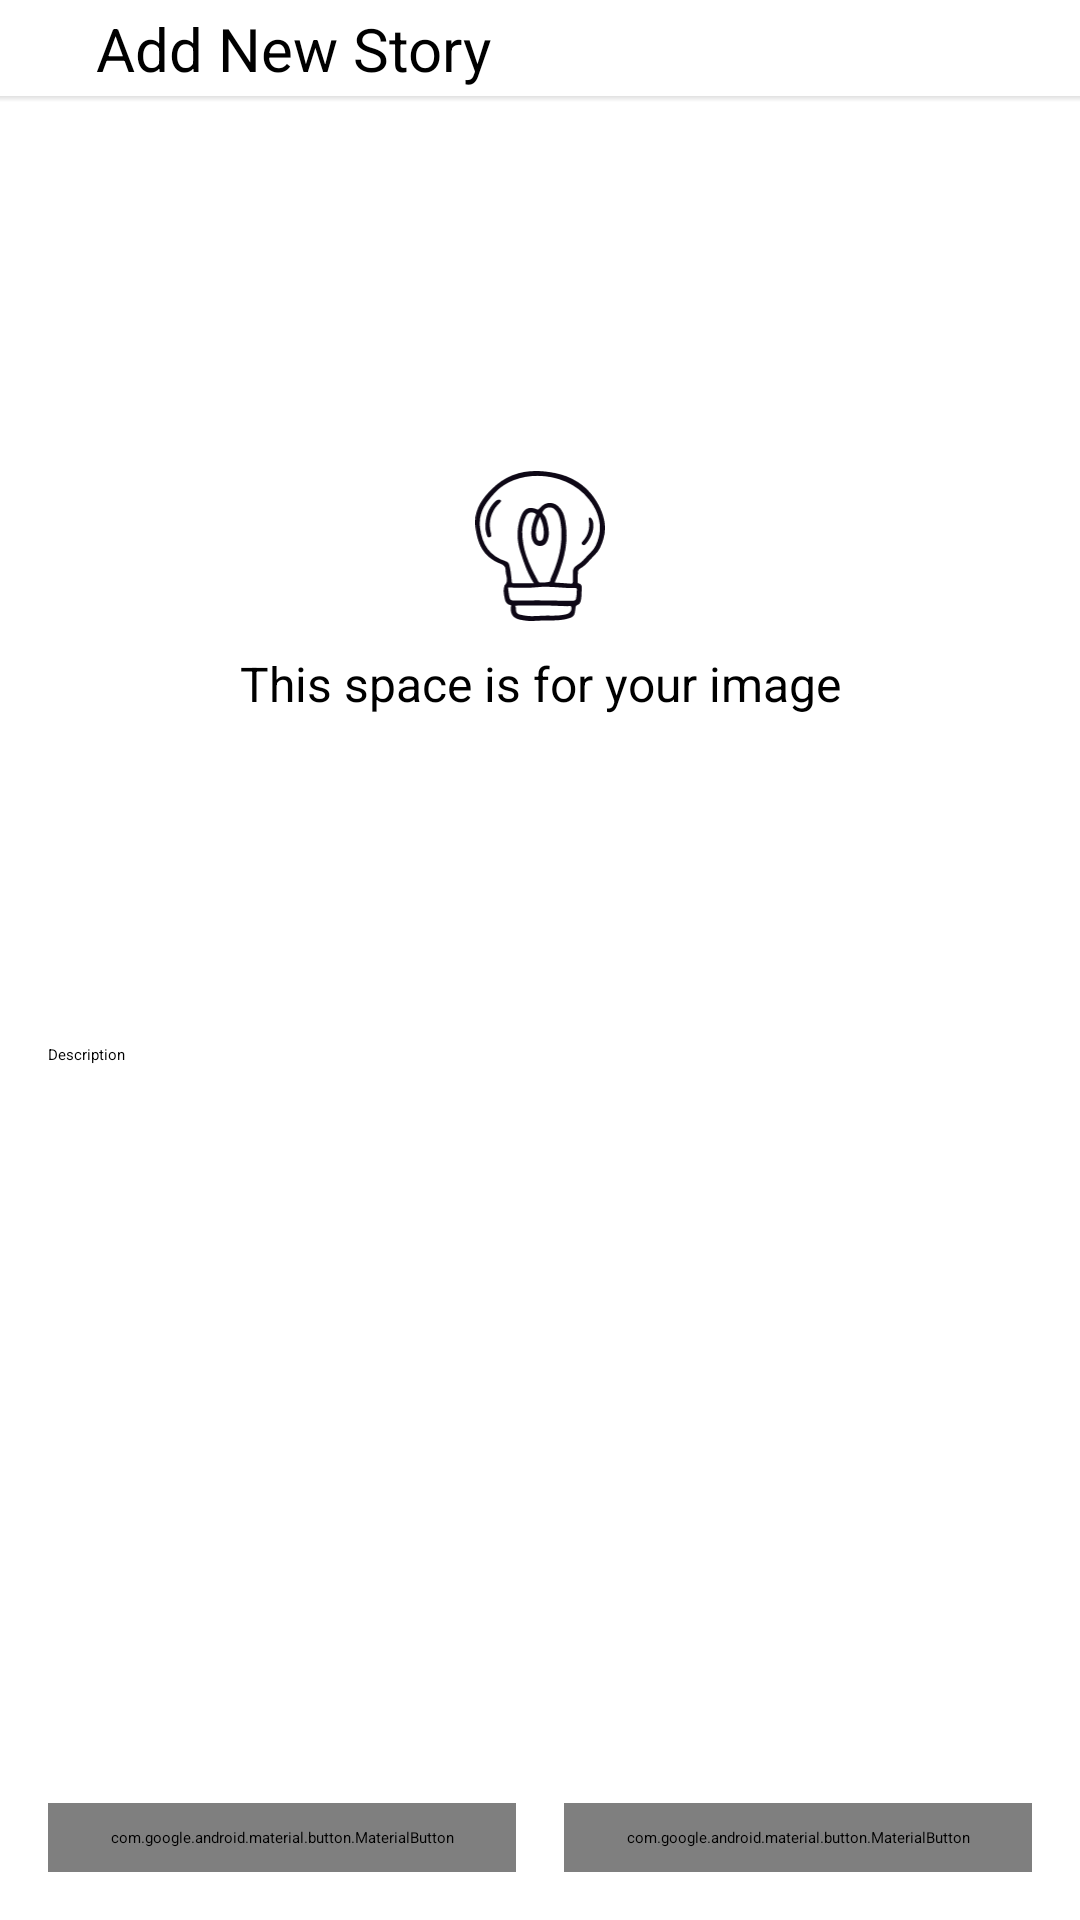

Icons on this 1080px x 1920px Android screen, each with the point to tap as (x=x, y=y):
lamp: (x=540, y=546)
